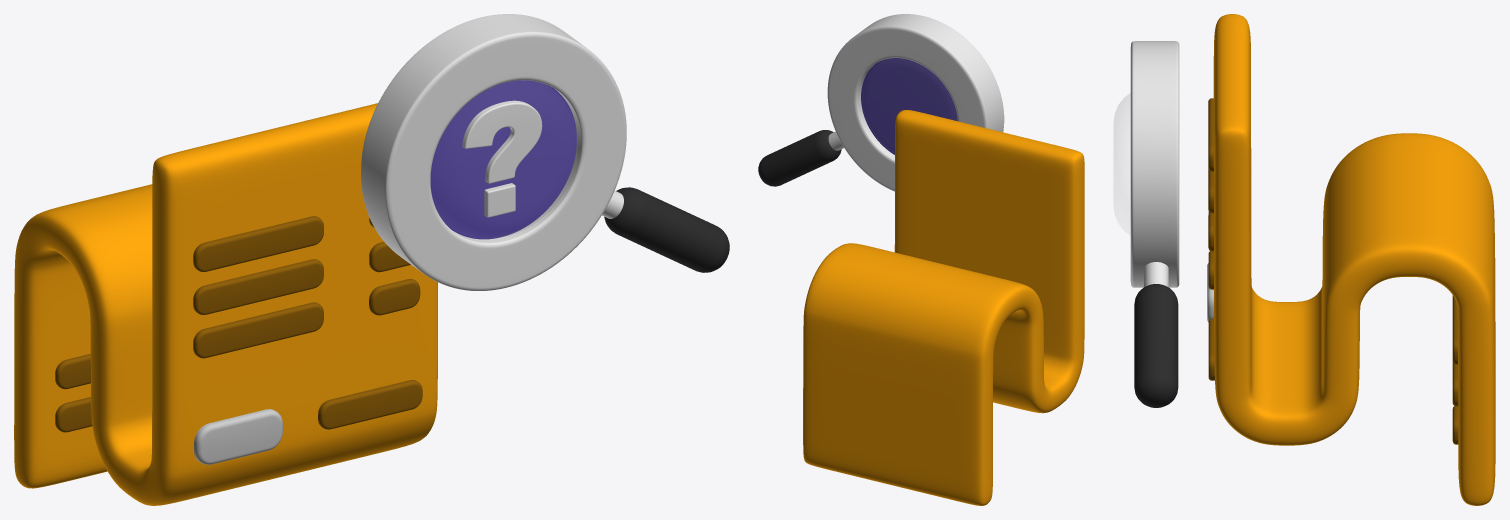
Rendered from no-transaction-animated-3d-icon-890529442889.glb.
The picture shows the model from 3 angles, left to right: view 1: azimuth 30°, elevation 25°; view 2: azimuth 150°, elevation 25°; view 3: azimuth 270°, elevation 25°; orthographic projection. The views are drawn at different scales.
Visible parts, largest first — view 1: Bill, Circle.003, Text, Circle.001, Cylinder.006, Question Symbol.002, Text.002, Text.001; view 2: Bill, Circle.003, Circle.001, Cylinder.006; view 3: Bill, Circle.003, Cylinder.006, Circle.008, Text, Text.001, Cylinder.004.
Part boxes in pixels (x1,y1,x2,y2): Bill: (14, 103, 437, 505); Circle.003: (361, 14, 626, 290); Text: (193, 216, 422, 429); Circle.001: (430, 80, 576, 239); Cylinder.006: (604, 187, 729, 272); Question Symbol.002: (462, 100, 542, 217); Text.002: (194, 409, 282, 464); Text.001: (55, 354, 92, 432); Bill: (803, 110, 1084, 505); Circle.003: (827, 14, 1004, 191); Circle.001: (861, 58, 957, 154); Cylinder.006: (758, 130, 841, 186); Bill: (1213, 14, 1495, 505); Circle.003: (1130, 41, 1179, 287); Cylinder.006: (1134, 284, 1178, 407); Circle.008: (1114, 94, 1129, 234); Text: (1208, 98, 1214, 380); Text.001: (1452, 295, 1458, 444); Cylinder.004: (1144, 262, 1168, 286).
Bounding box in the file's own units: 2.42 × 2.31 × 1.72.
